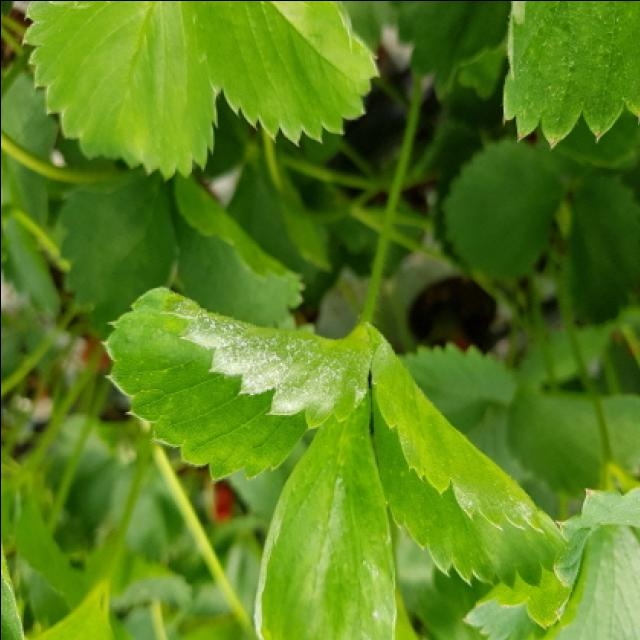Powdery Mildew Leaf: (101, 287, 380, 483), (368, 336, 567, 589), (251, 390, 397, 640)
